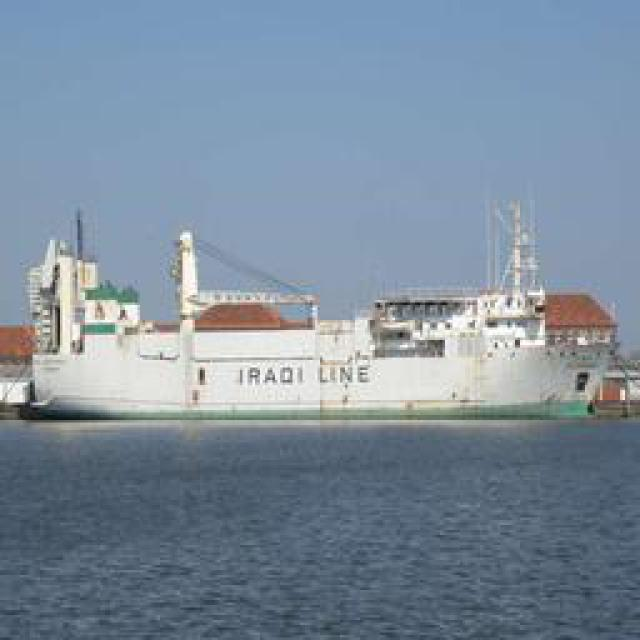Ship: (20, 202, 623, 422)
